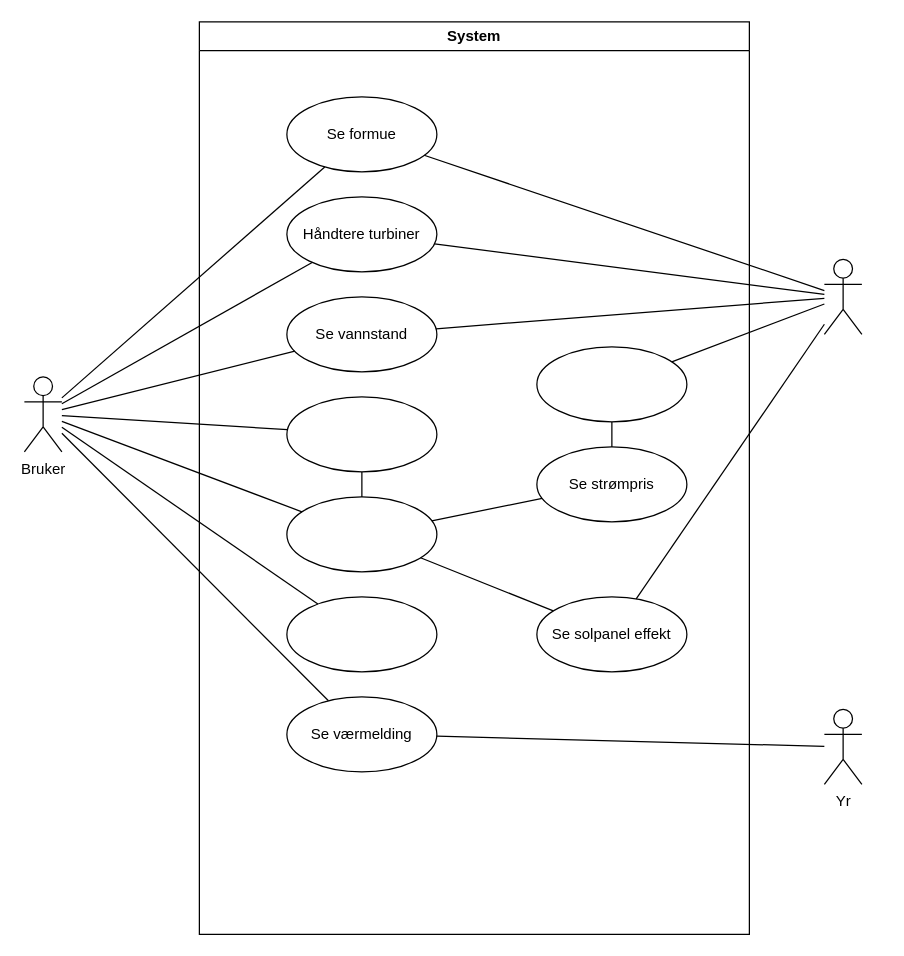
Some shapes in this 904 by 956 pixel diagram are drawn without their labels. Each missing label, with the centre of its shape:
Hent strømpris: the point at 611,384
Se historiske data: the point at 361,634
Se inntekt: the point at 361,534
Se vanninførsel: the point at 361,434
SolvannAPI: the point at 842,296
